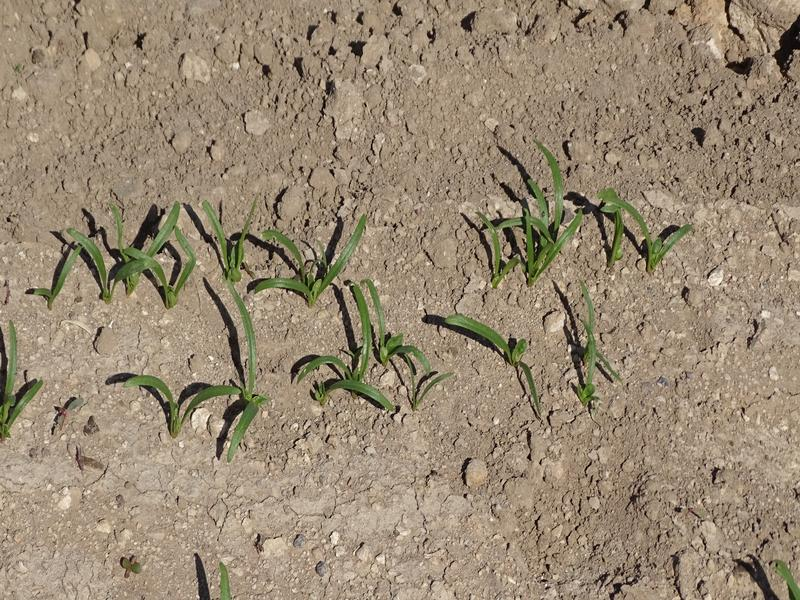Espinaca: (31, 209, 384, 302), (485, 146, 701, 283), (131, 304, 266, 454), (313, 303, 438, 420), (452, 314, 553, 426), (577, 290, 619, 408), (1, 321, 42, 439)
